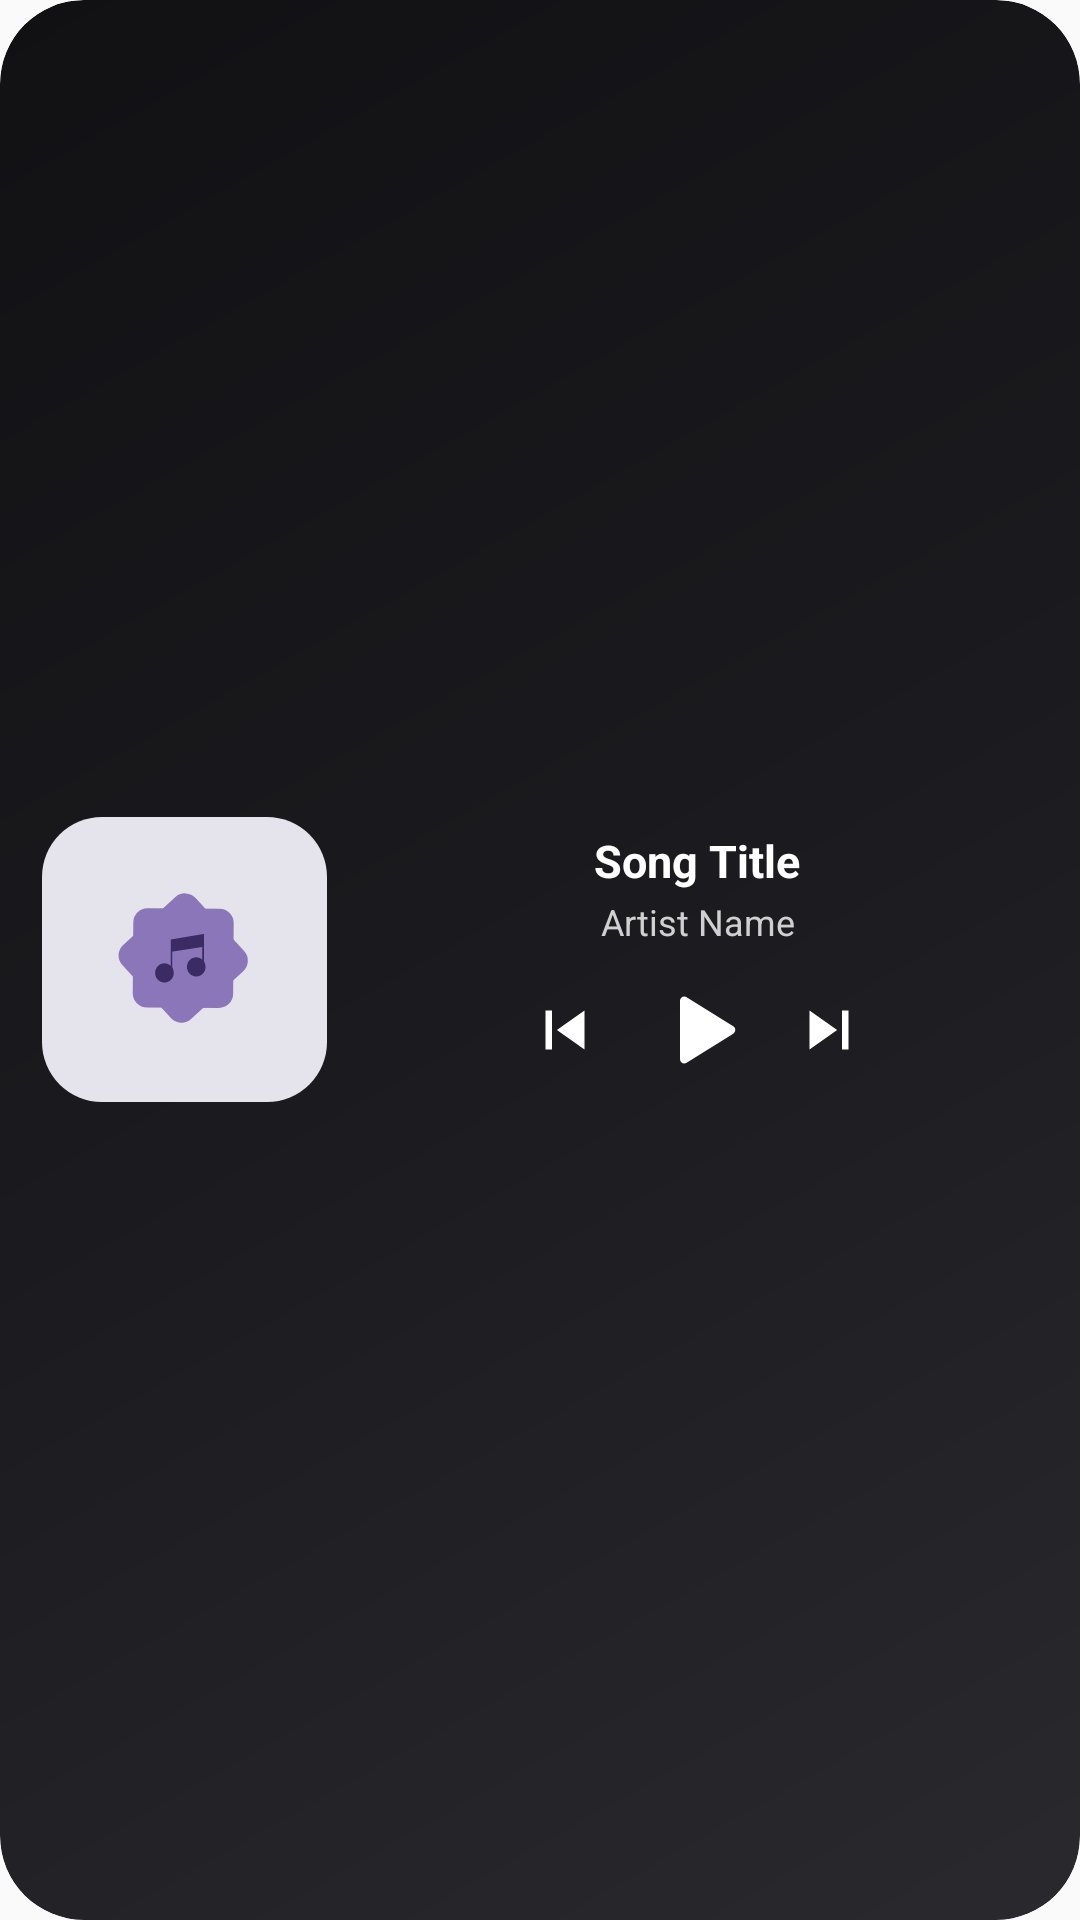

Screen size 1080x1920. Icon name, then its center in pixels as (x=x, y=y):
Next: (x=829, y=1030)
Play/Pause: (x=708, y=1030)
Previous: (x=565, y=1030)
